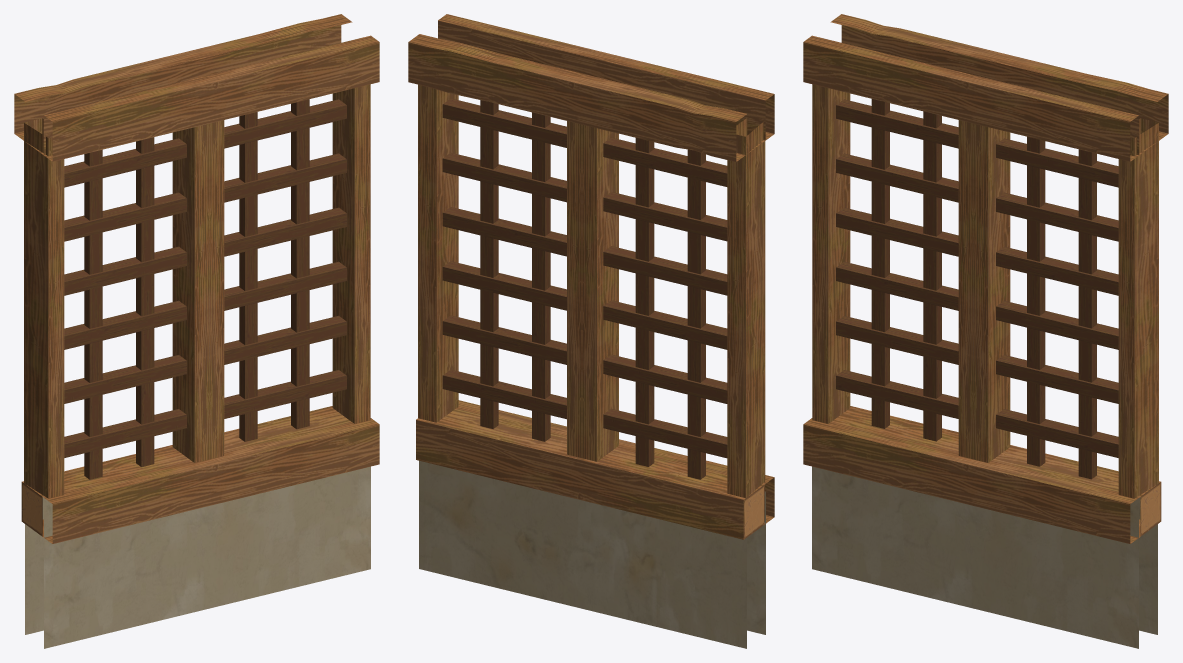
Rendered from Wall_Plaster_WoodGrid.gltf.
The picture shows the model from 3 angles, left to right: view 1: azimuth 30°, elevation 25°; view 2: azimuth 150°, elevation 25°; view 3: azimuth 330°, elevation 25°; orthographic projection.
Parts seen in each view (by area): view 1: Wall_Plaster_WoodGrid; view 2: Wall_Plaster_WoodGrid; view 3: Wall_Plaster_WoodGrid.
Boxes of the visible parts, left/top/right/bottom form: Wall_Plaster_WoodGrid: left=14, top=14, right=379, bottom=648; Wall_Plaster_WoodGrid: left=408, top=14, right=774, bottom=648; Wall_Plaster_WoodGrid: left=803, top=14, right=1168, bottom=648.
Bounding box in the file's own units: 2 × 3.12 × 0.4065.
2 materials, 2 textured.
